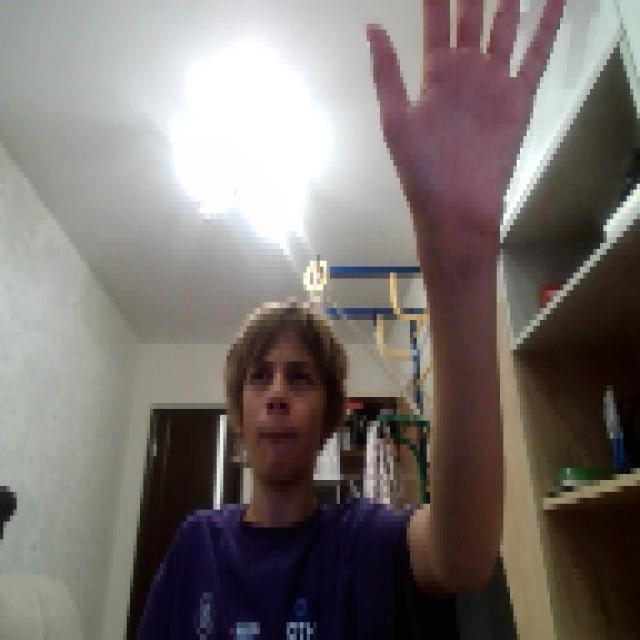hand: (360, 0, 563, 237)
